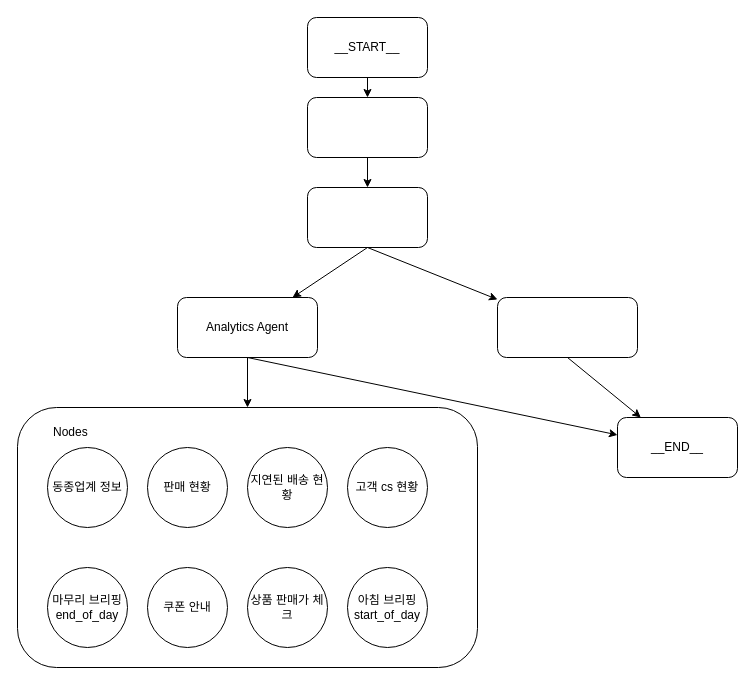
Some shapes in this 755 by 685 pixel diagram are drawn without their labels. Here are the shapes that lost their labels. From the top down, the box of each, then its label:
(306, 96, 428, 158): AGENT ROUTER
(306, 186, 428, 248): CAFE24 MCP TOOL
(496, 296, 638, 358): RECOMMEND AGENT
